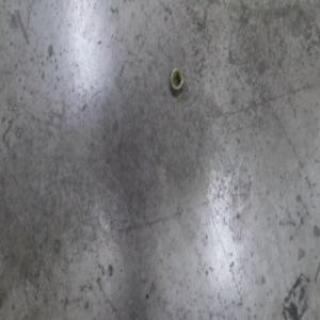Nuttrack_idkeyframe: (168, 65, 184, 99)
